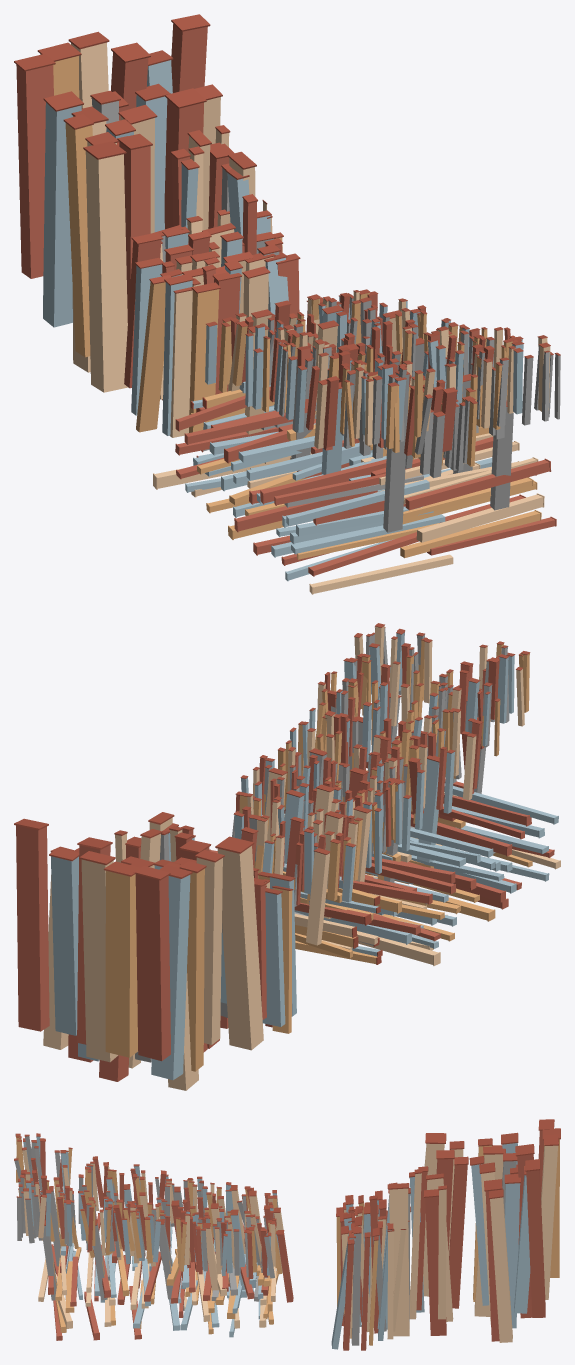
File: SM_SkyBoxCity.fbx
3 renders of one model, top to bottom at view 1: azimuth 30°, elevation 25°; view 2: azimuth 150°, elevation 25°; view 3: azimuth 270°, elevation 25°, orthographic. The views are drawn at different scales.
Parts seen in each view (by area): view 1: Cube.904; view 2: Cube.904; view 3: Cube.904.
Boxes of the visible parts, x1=… form: Cube.904: x1=14, y1=14, x2=560, y2=594; Cube.904: x1=14, y1=623, x2=560, y2=1090; Cube.904: x1=14, y1=1119, x2=560, y2=1350.
Bounding box in the file's own units: 2715 × 2867 × 7117.
